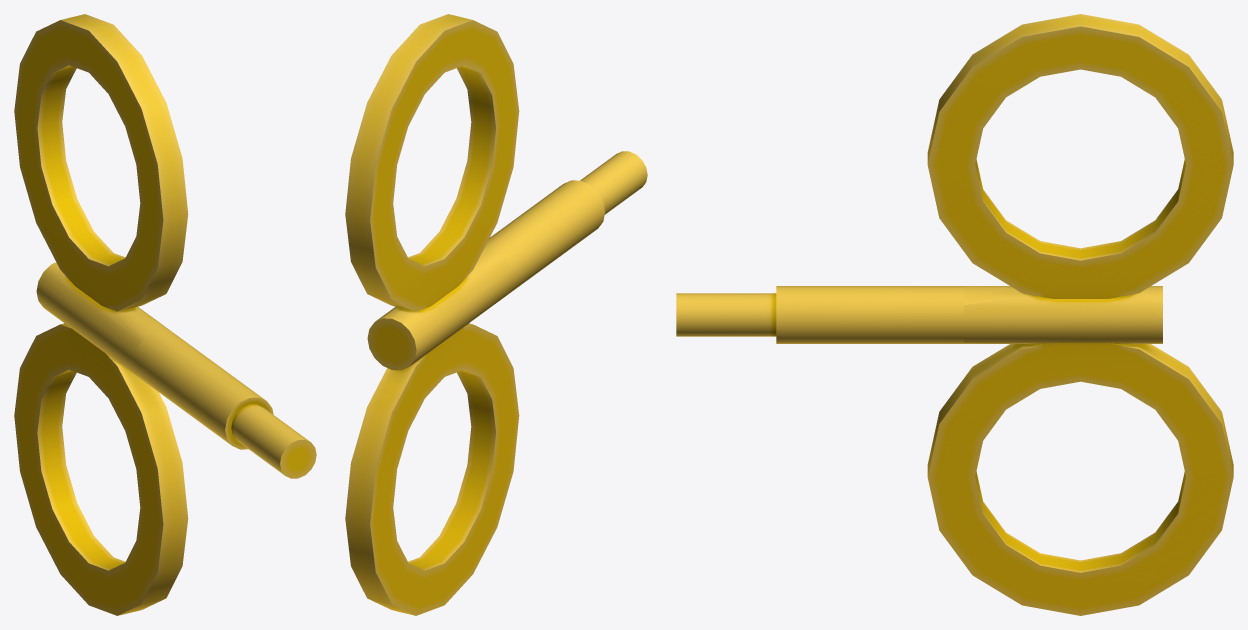
File: Sppring.FBX
The picture shows the model from 3 angles, left to right: view 1: azimuth 30°, elevation 25°; view 2: azimuth 150°, elevation 25°; view 3: azimuth 270°, elevation 25°; orthographic projection. The views are drawn at different scales.
Parts seen in each view (by area): view 1: Spring; view 2: Spring; view 3: Spring.
Boxes of the visible parts, <box> form: Spring: <box>14,14,316,615</box>; Spring: <box>345,14,647,615</box>; Spring: <box>676,14,1233,615</box>.
Size of the model in its own units: 15.54 by 174 by 149.
